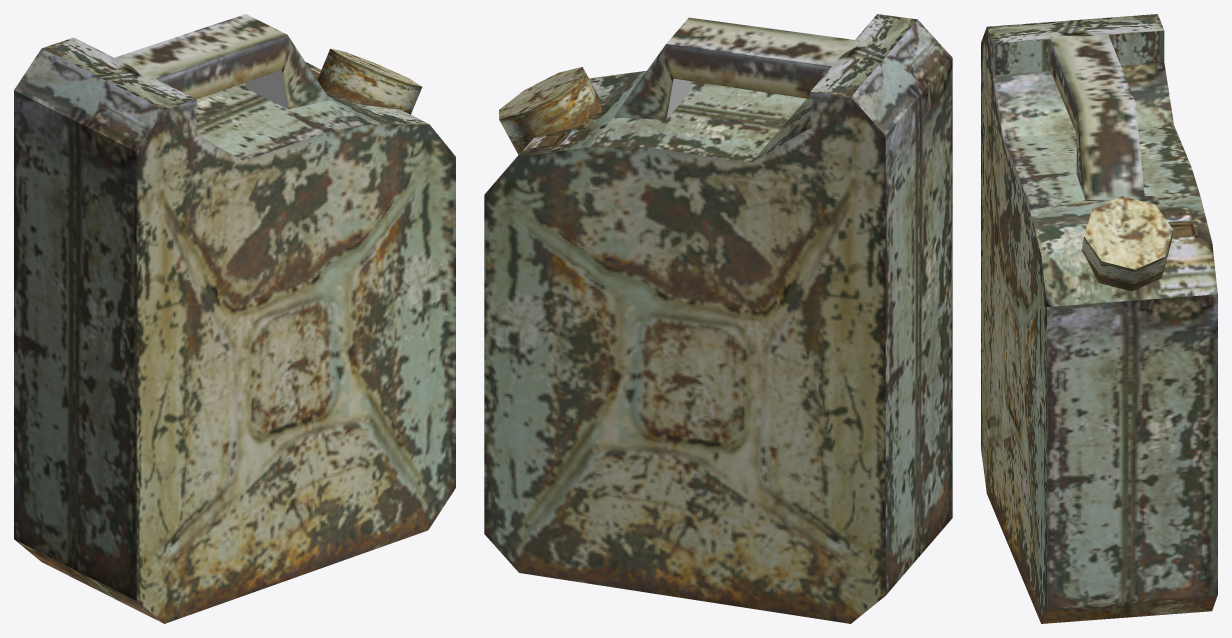
File: Bidon.FBX
3 views of the same model, side by side, from view 1: azimuth 30°, elevation 25°; view 2: azimuth 150°, elevation 25°; view 3: azimuth 270°, elevation 25° (orthographic). The views are drawn at different scales.
Parts seen in each view (by area): view 1: Bidon001; view 2: Bidon001; view 3: Bidon001.
Boxes of the visible parts, x1,y1,x2,y2 form: Bidon001: (14, 14, 455, 623); Bidon001: (484, 14, 952, 623); Bidon001: (981, 14, 1217, 623).
Size of the model in its own units: 19.4 by 24.66 by 11.33.
